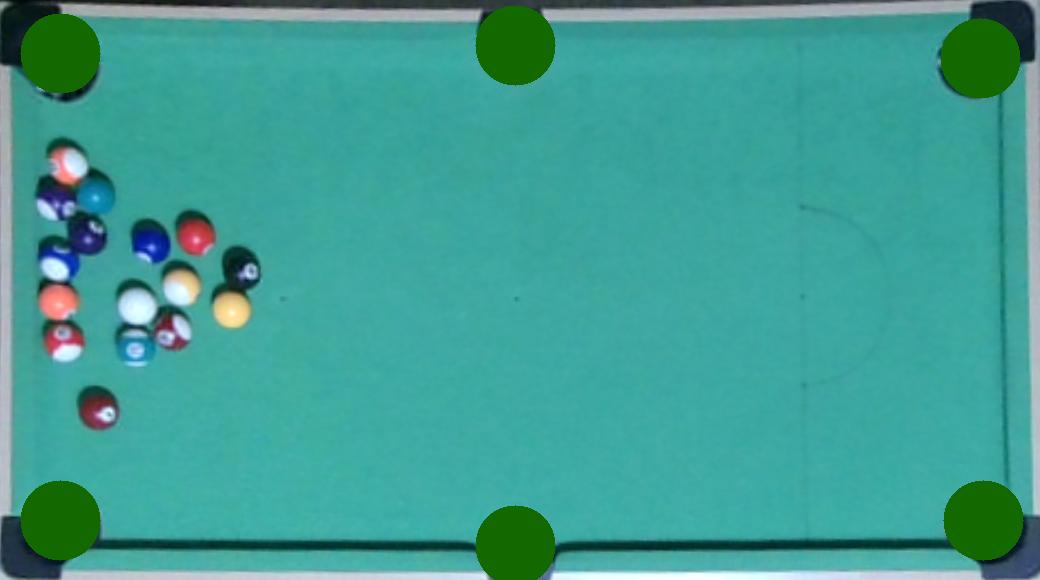Ball: (34, 180, 79, 229), (116, 283, 162, 326), (47, 143, 93, 185), (36, 238, 79, 282), (78, 387, 121, 430), (161, 266, 203, 308), (44, 321, 84, 364), (69, 217, 110, 257), (177, 215, 217, 255), (153, 310, 192, 350), (211, 291, 252, 329), (129, 226, 171, 263), (116, 330, 156, 368), (76, 176, 114, 214), (224, 255, 264, 291), (42, 286, 77, 321)
